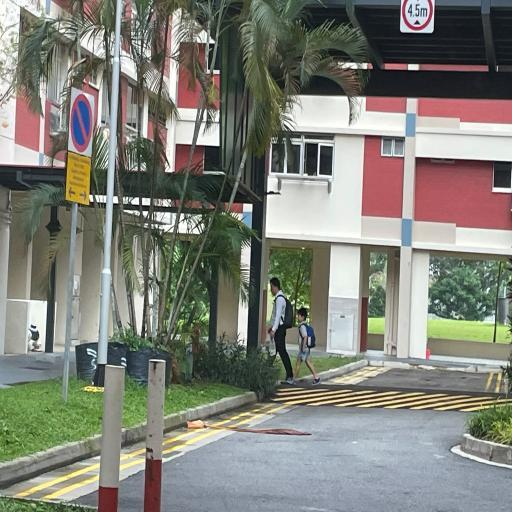person_left: (263, 268, 296, 380), (294, 300, 320, 383)
